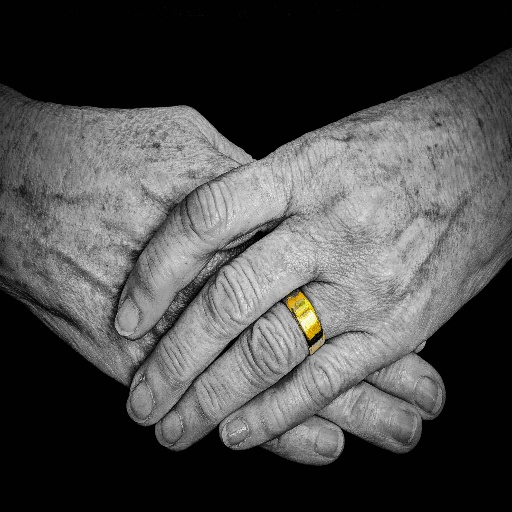hand: (0, 85, 446, 463)
